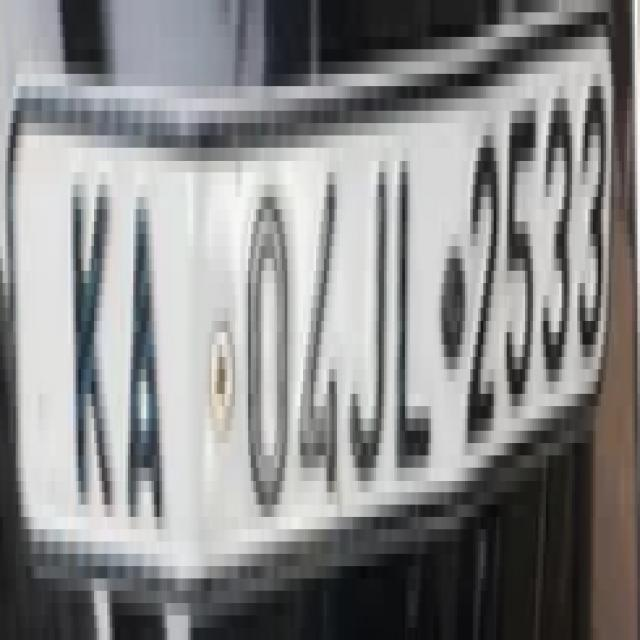0: (242, 170, 293, 518)
3: (540, 71, 575, 401), (576, 67, 611, 376)
4: (295, 153, 344, 511)
5: (504, 79, 538, 436)
A: (122, 165, 169, 543)
J: (347, 137, 390, 490)
K: (67, 156, 116, 523)
L: (393, 133, 437, 499)
